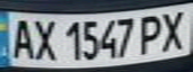1: (60, 17, 84, 61)
4: (100, 16, 121, 58)
5: (78, 17, 100, 61)
7: (115, 15, 139, 57)
A: (6, 15, 39, 61)
P: (136, 11, 166, 55)
X: (154, 7, 193, 52), (27, 16, 60, 62)
